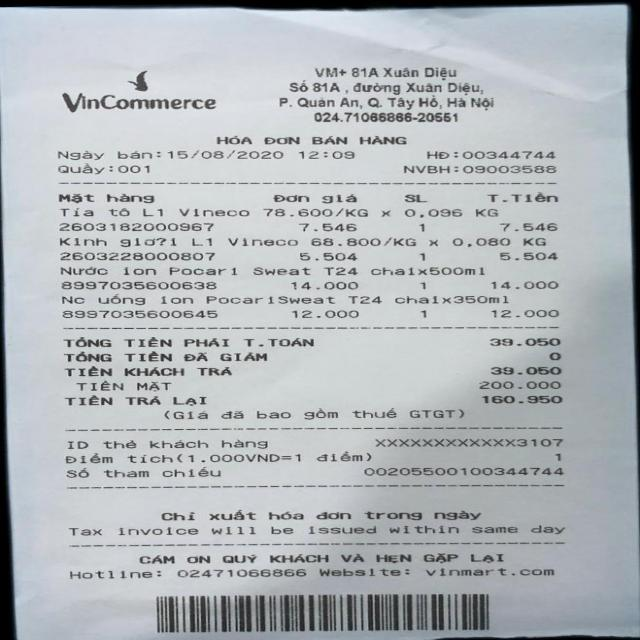Date: (165, 146, 288, 164)
Store_Name: (55, 69, 228, 127)
Total_Amount: (62, 329, 568, 351)
